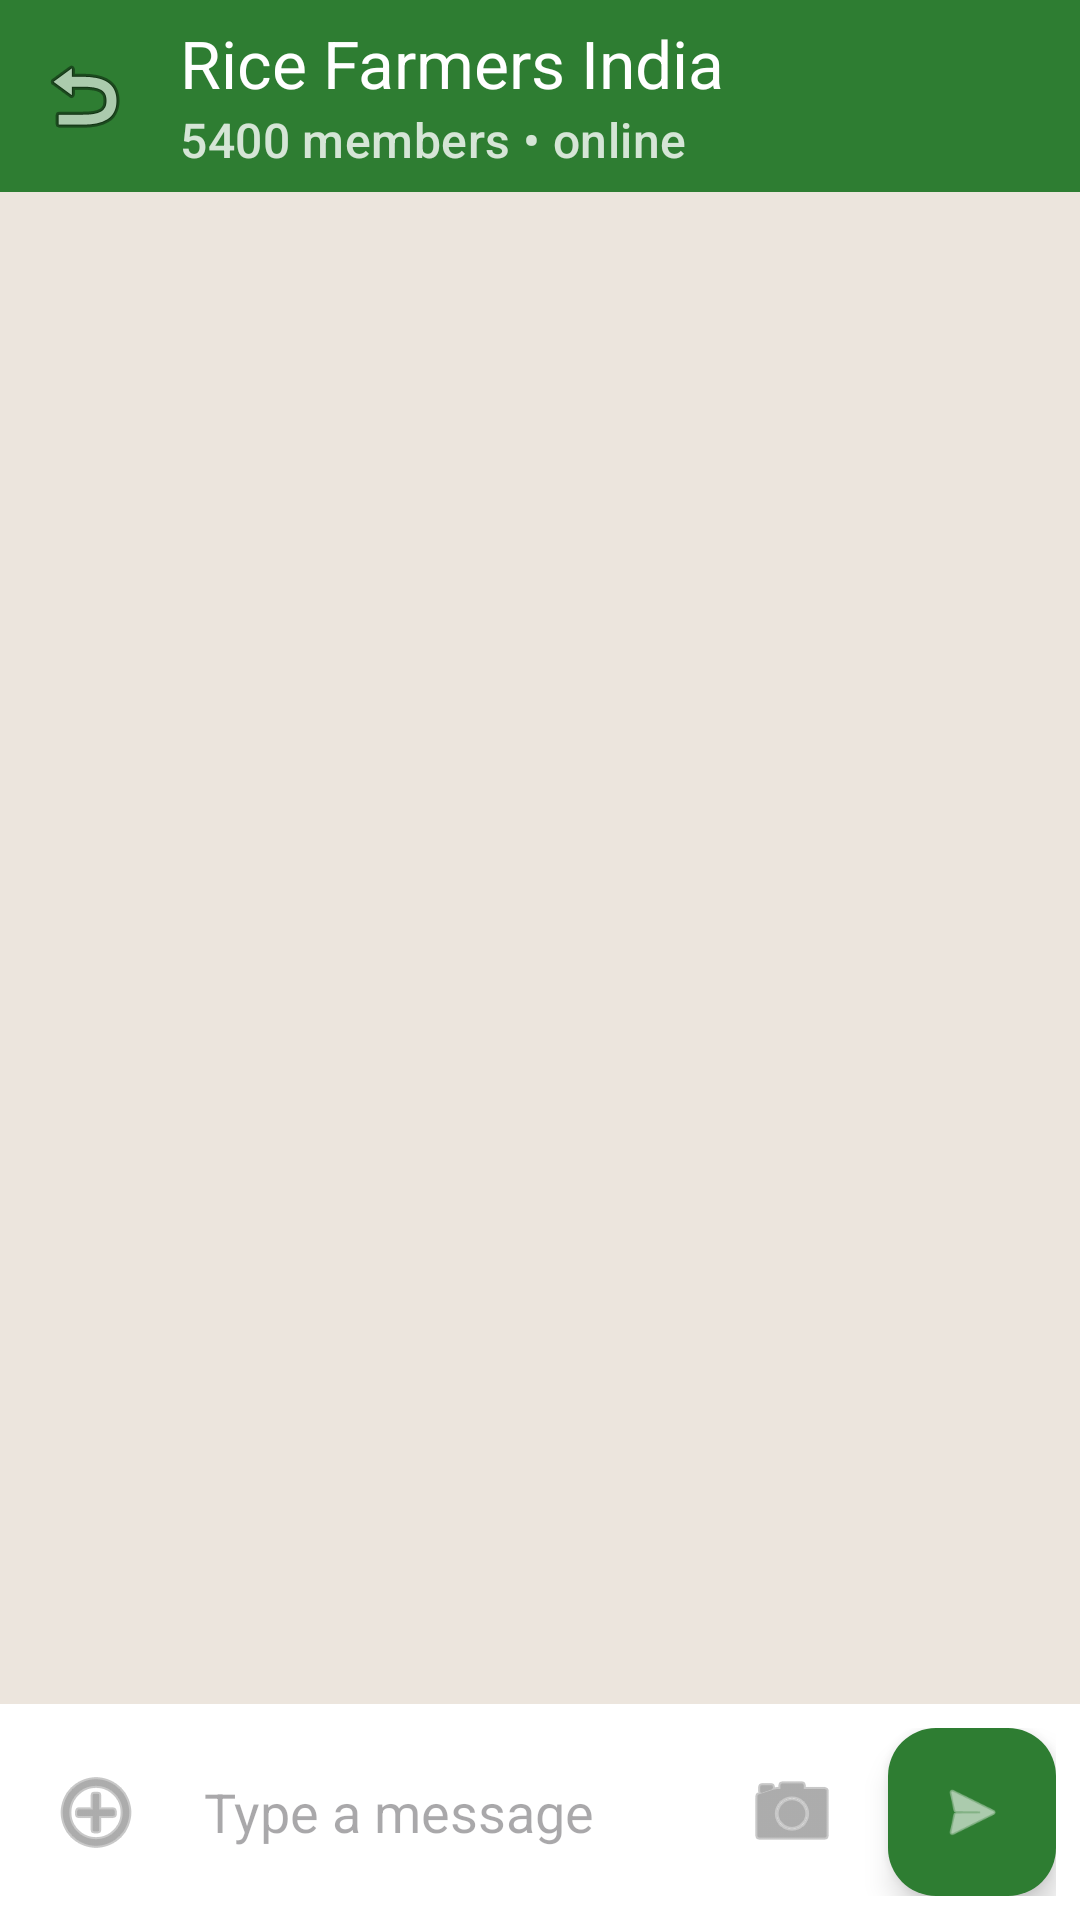

Named icons in this screenshot (1080px x 1920px) and their bounding boxes, (left=x1, top=y1, right=x2, bottom=y2):
add: (left=61, top=1777, right=131, bottom=1848)
camera: (left=755, top=1781, right=829, bottom=1840)
send: (left=888, top=1728, right=1056, bottom=1896)
